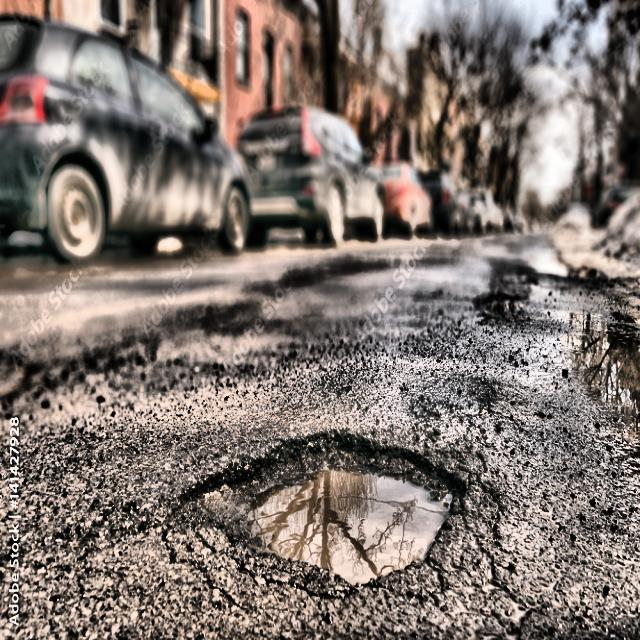Cracks: (248, 455, 451, 586)
